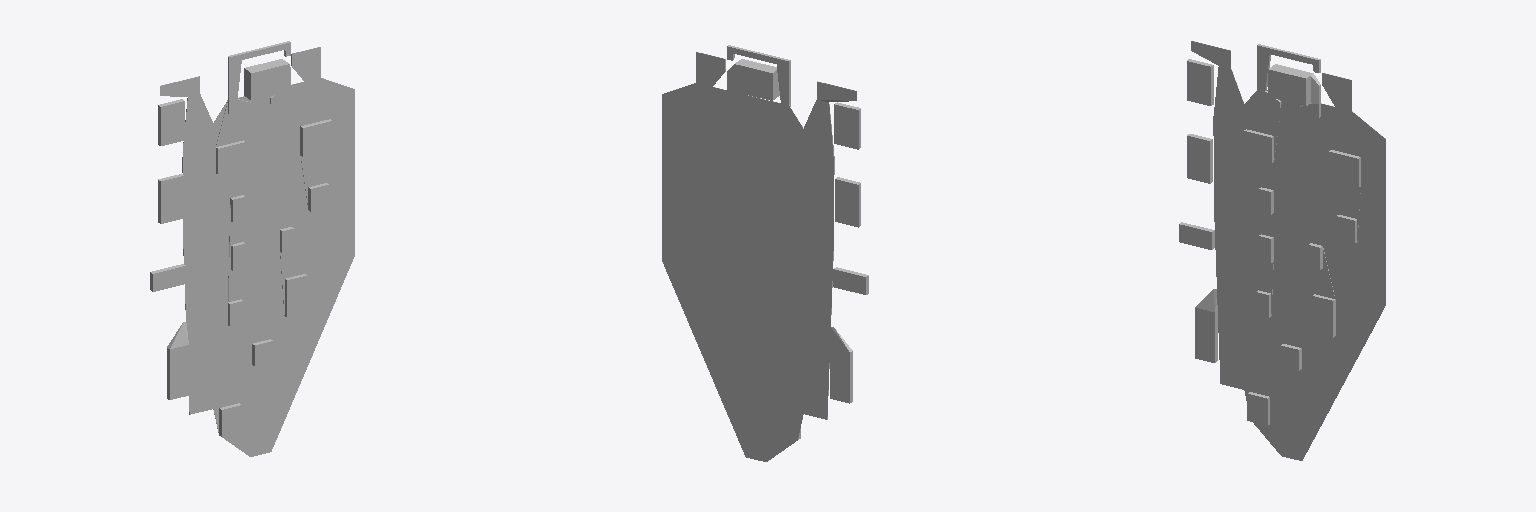
Rendered from exact_map_output.obj.
The picture shows the model from 3 angles: view 1: azimuth 30°, elevation 25°; view 2: azimuth 150°, elevation 25°; view 3: azimuth 330°, elevation 25°; orthographic projection.
Parts seen in each view (by area): view 1: convex_3, convex_1, convex_2, convex_0, convex_12, convex_7, convex_8, convex_24, convex_13, convex_28, convex_26, convex_20 (+6 smaller); view 2: convex_3, convex_1, convex_2, convex_16, convex_12, convex_7, convex_5, convex_10, convex_4, convex_9; view 3: convex_3, convex_1, convex_2, convex_0, convex_12, convex_7, convex_8, convex_13, convex_24, convex_28, convex_26, convex_5 (+6 smaller).
Boxes of the visible parts, x1=… form: convex_3: x1=213, y1=78, x2=354, y2=456; convex_1: x1=182, y1=94, x2=212, y2=414; convex_2: x1=167, y1=322, x2=188, y2=399; convex_0: x1=247, y1=61, x2=289, y2=100; convex_12: x1=158, y1=174, x2=183, y2=223; convex_7: x1=158, y1=99, x2=184, y2=145; convex_8: x1=301, y1=119, x2=332, y2=156; convex_24: x1=300, y1=119, x2=329, y2=204; convex_13: x1=216, y1=102, x2=250, y2=146; convex_28: x1=285, y1=274, x2=306, y2=317; convex_26: x1=216, y1=140, x2=245, y2=174; convex_20: x1=228, y1=195, x2=242, y2=301; convex_3: x1=662, y1=83, x2=803, y2=461; convex_1: x1=803, y1=100, x2=834, y2=419; convex_2: x1=830, y1=327, x2=852, y2=403; convex_16: x1=727, y1=62, x2=775, y2=100; convex_12: x1=835, y1=177, x2=860, y2=227; convex_7: x1=834, y1=102, x2=860, y2=149; convex_5: x1=696, y1=52, x2=725, y2=86; convex_10: x1=833, y1=267, x2=868, y2=294; convex_4: x1=817, y1=81, x2=856, y2=101; convex_9: x1=777, y1=57, x2=790, y2=104; convex_3: x1=1244, y1=90, x2=1385, y2=460; convex_1: x1=1213, y1=66, x2=1243, y2=389; convex_2: x1=1195, y1=289, x2=1217, y2=362; convex_0: x1=1268, y1=66, x2=1310, y2=105; convex_12: x1=1187, y1=134, x2=1212, y2=183; convex_7: x1=1187, y1=59, x2=1213, y2=105; convex_8: x1=1329, y1=150, x2=1360, y2=187; convex_13: x1=1246, y1=95, x2=1281, y2=159; convex_24: x1=1331, y1=150, x2=1360, y2=241; convex_28: x1=1313, y1=294, x2=1334, y2=337; convex_26: x1=1244, y1=129, x2=1273, y2=162; convex_5: x1=1322, y1=73, x2=1351, y2=110.
Bounding box in the file's own units: 126 × 240 × 7.79.